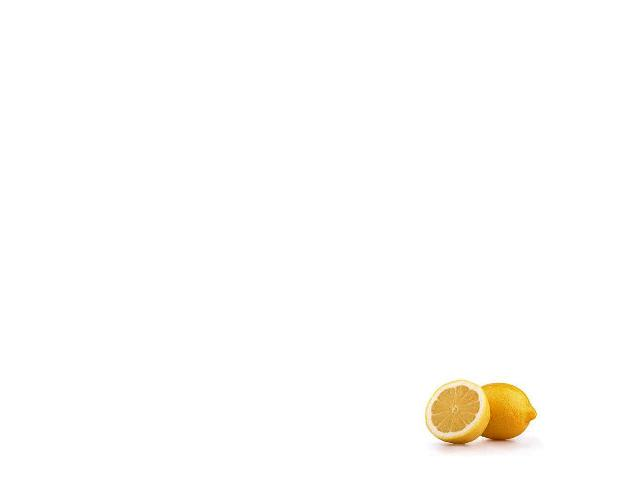lemon: (476, 378, 537, 447)
